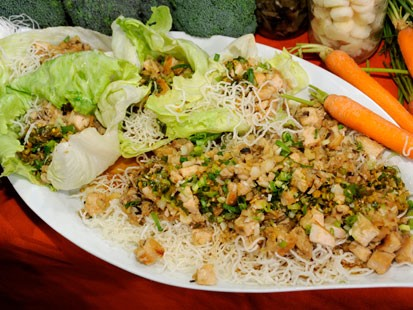chopped lettuce: (1, 23, 283, 147)
